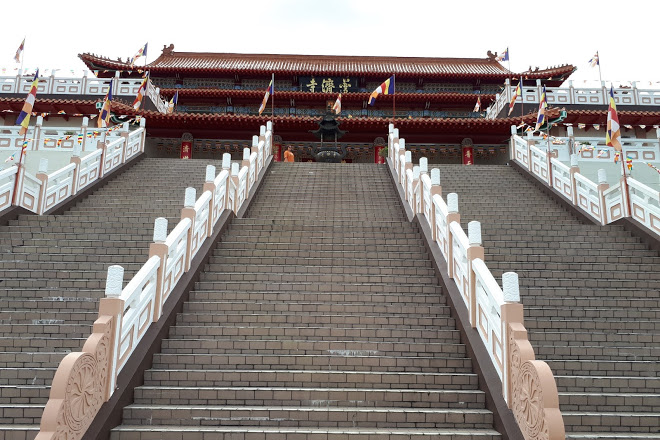Buddhist Temple: (93, 31, 551, 155)
